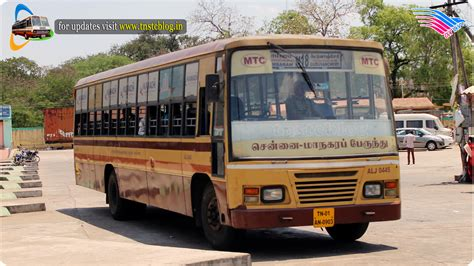bus: (75, 37, 399, 240)
